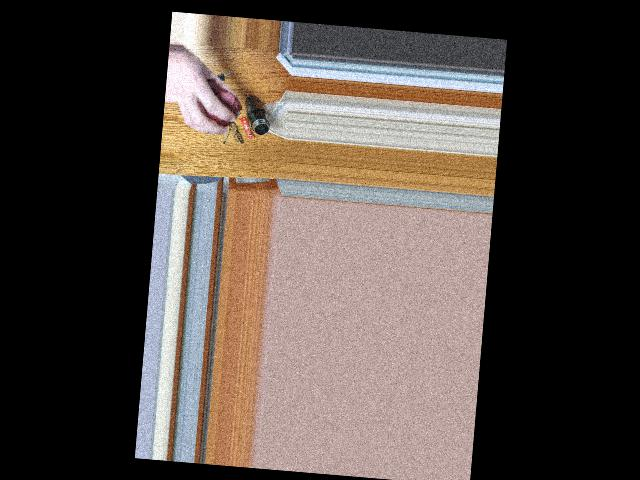onion: (201, 88, 237, 126)
